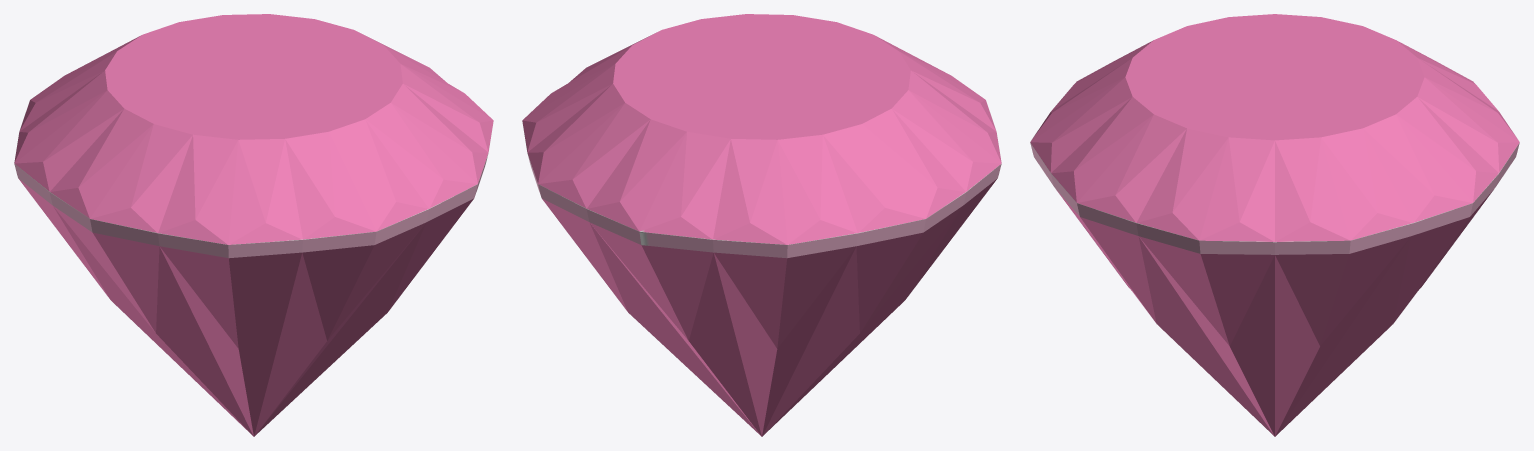
The model's file is diamond.fbx.
3 renders of one model, left to right at view 1: azimuth 30°, elevation 25°; view 2: azimuth 150°, elevation 25°; view 3: azimuth 270°, elevation 25°, orthographic.
Parts seen in each view (by area): view 1: diamond; view 2: diamond; view 3: diamond.
Part boxes in pixels (<box>): diamond: <box>14,14,493,436</box>; diamond: <box>522,14,1001,436</box>; diamond: <box>1030,14,1519,436</box>.
Size of the model in its own units: 1.04 by 0.8723 by 1.08.
